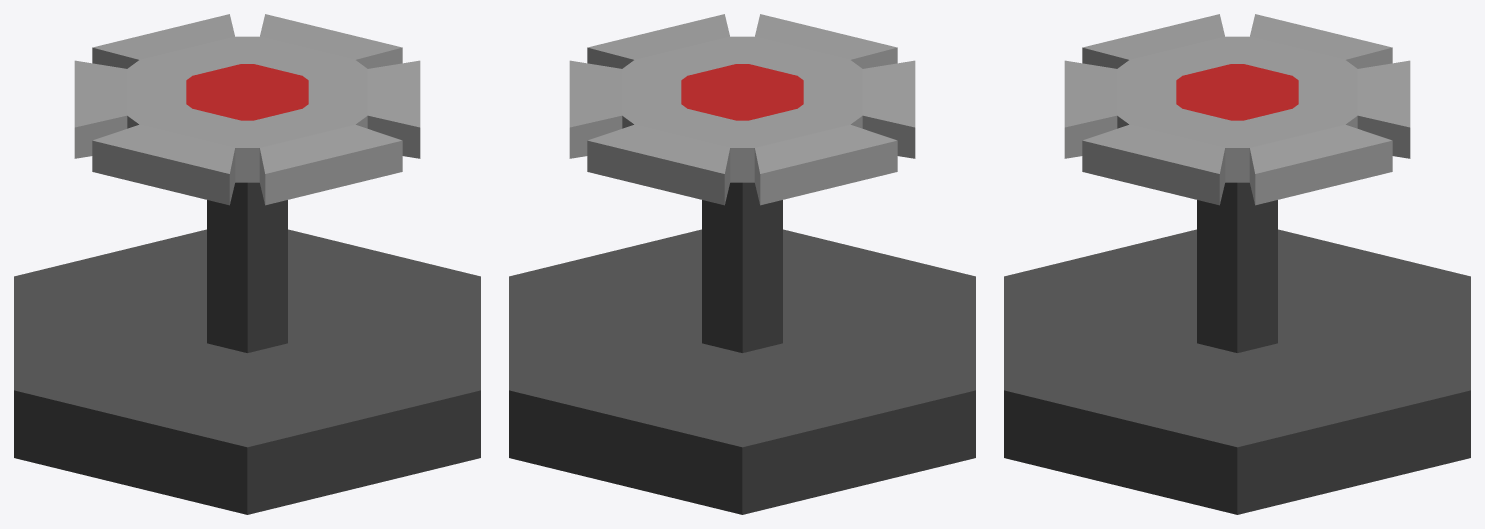
File: Small_stopcock.fbx
3 renders of one model, left to right at view 1: azimuth 30°, elevation 25°; view 2: azimuth 150°, elevation 25°; view 3: azimuth 270°, elevation 25°, orthographic.
Visible parts, largest first — view 1: pCylinder4; view 2: pCylinder4; view 3: pCylinder4.
Part boxes in pixels (<box>): pCylinder4: <box>14,14,480,514</box>; pCylinder4: <box>509,14,975,514</box>; pCylinder4: <box>1004,14,1470,514</box>.
Size of the model in its own units: 0.3684 by 0.2329 by 0.3191.
1 material, 1 textured.
